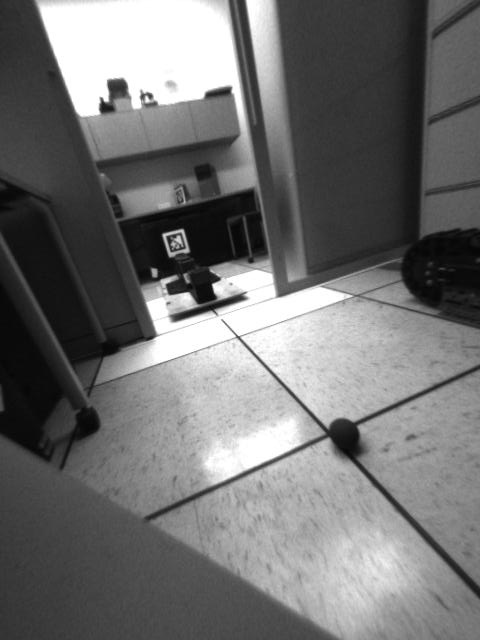dogtoy: (316, 406, 372, 463)
